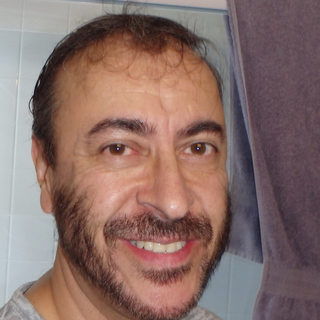eye: (95, 138, 143, 162), (177, 138, 221, 163)
